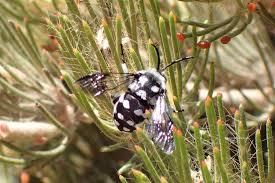Thyreus: (87, 37, 198, 152)
